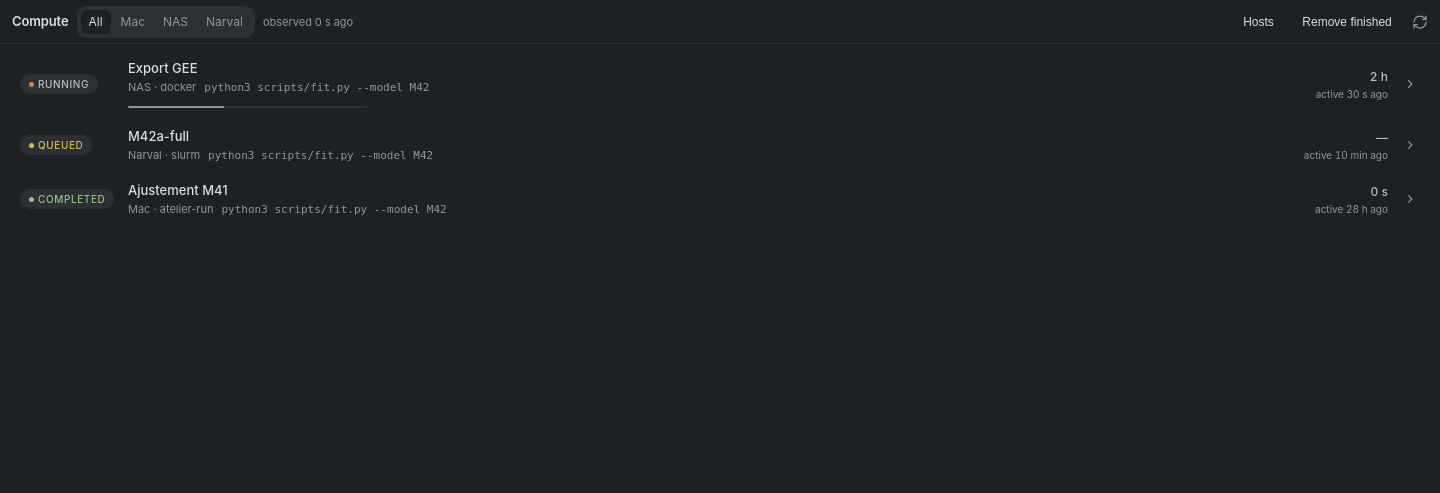
Scenario: CalculsSurface › retirer les runs terminés › un clic envoie computeForgetRun et masque la rangée aussitôt ; « unsupported » la laisse masquée
Click the button with class "calculs-run-head" that starts with "completed" at (67, 199), box [8,174,1432,224]
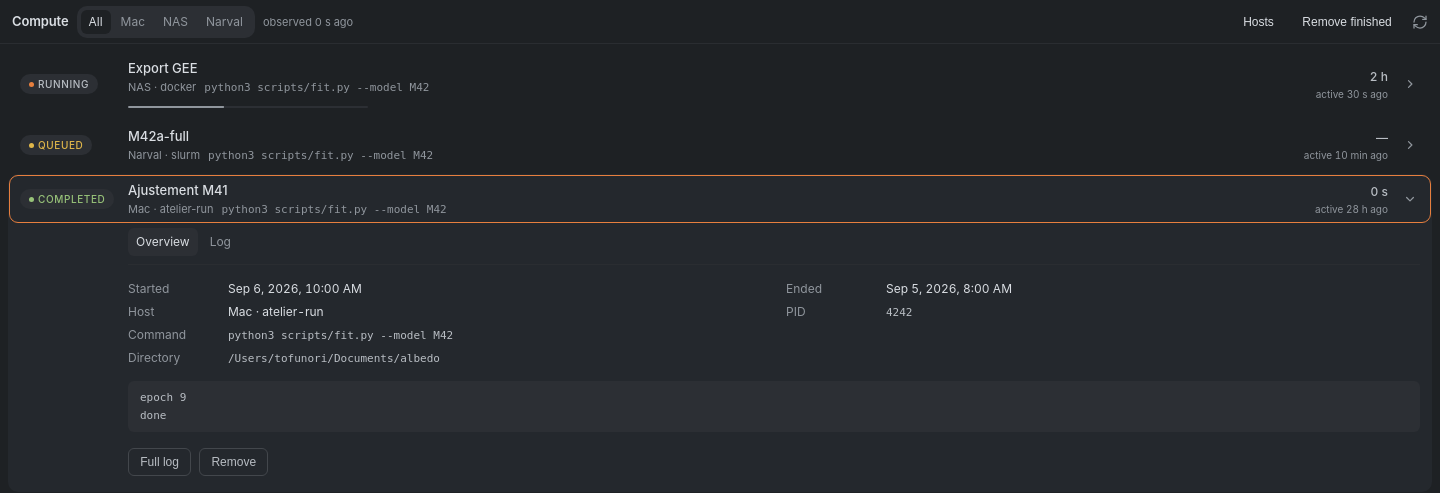
Click the button "Remove" at (234, 462), box [199,448,268,476]
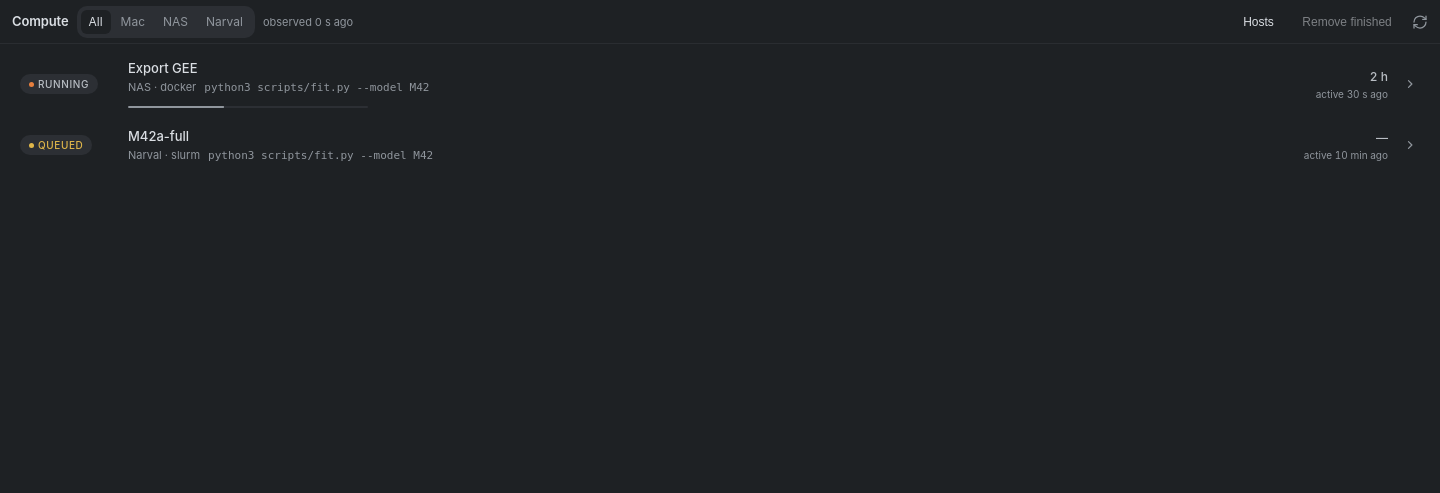
Expected: the number of elements with class "calculs-run" is 2, [8,52,1432,116]; [8,120,1432,170]
